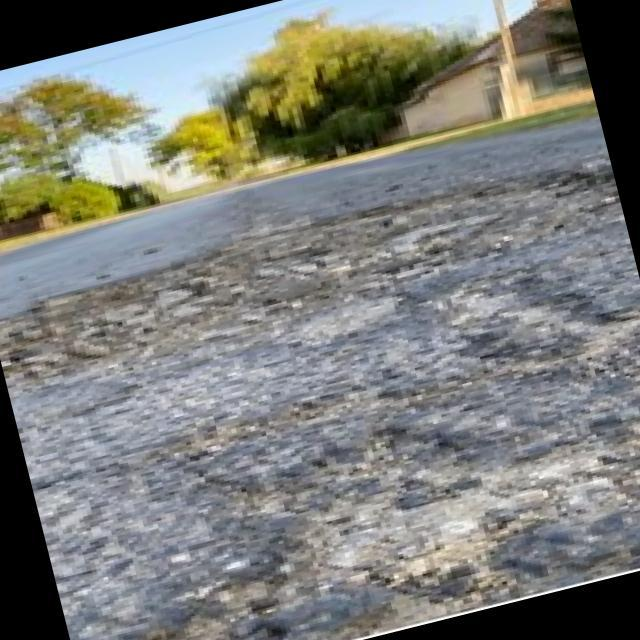Pothole: (0, 139, 629, 392), (252, 407, 566, 617)
